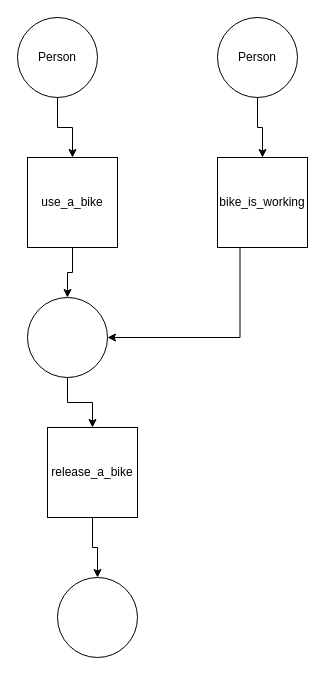
Image size: 325x675. Some labels were removed from this diagram. The centre of each missing label's shape, as x and y in pixels:
"Bike" goes at point 97,617.
"Docking Station" goes at point 67,337.
